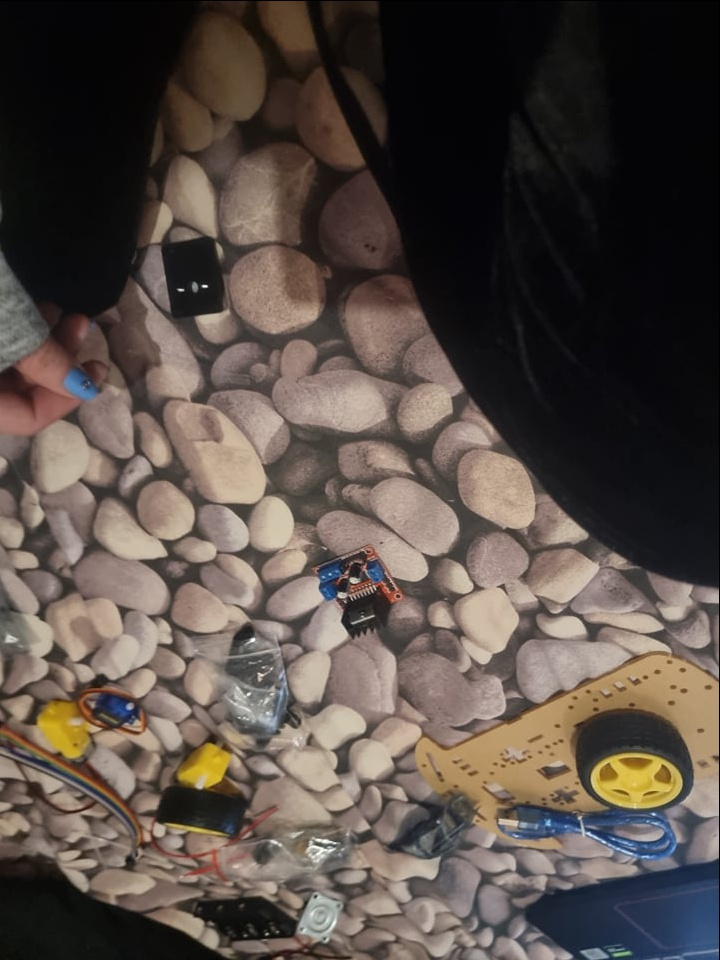BATTERY BOX: (188, 892, 297, 947)
MOTOR: (312, 542, 406, 635)
